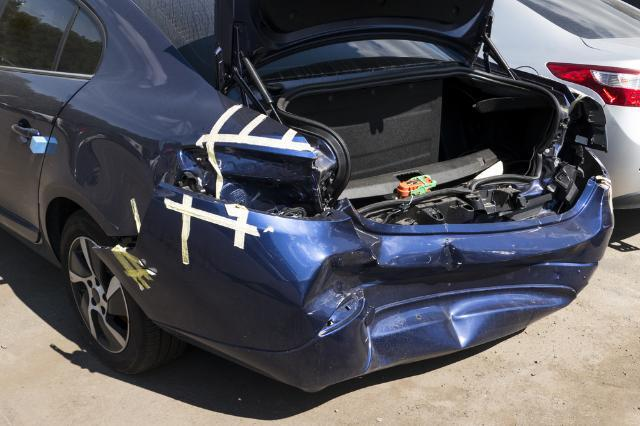dent: (302, 229, 574, 370)
dislocated part: (88, 180, 615, 392)
no part: (169, 146, 321, 218)
